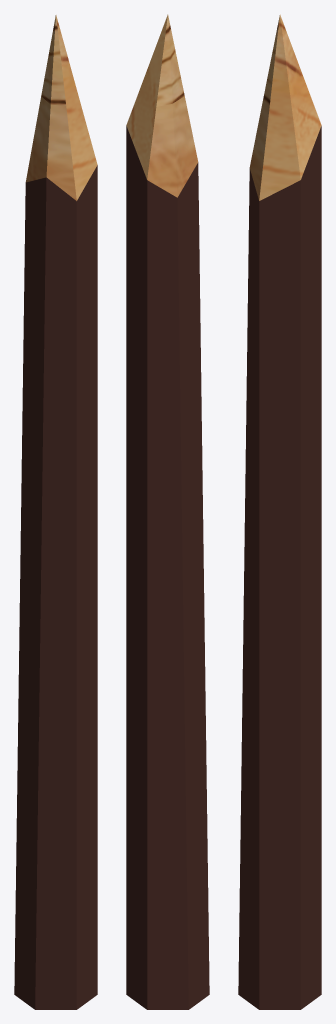
Rendered from Stick_07.fbx.
3 renders of one model, left to right at view 1: azimuth 30°, elevation 25°; view 2: azimuth 150°, elevation 25°; view 3: azimuth 330°, elevation 25°, orthographic.
Visible parts, largest first — view 1: Stick_07; view 2: Stick_07; view 3: Stick_07.
Boxes of the visible parts, x1,y1,x2,y2 form: Stick_07: (14,15,97,1009); Stick_07: (126,14,209,1009); Stick_07: (238,14,321,1009).
Size of the model in its own units: 31.18 by 468 by 36.
